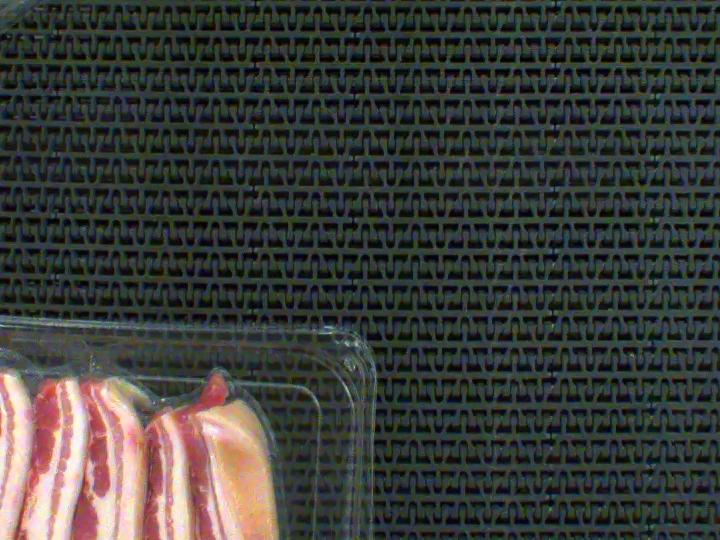unsealed: (0, 341, 299, 540)
